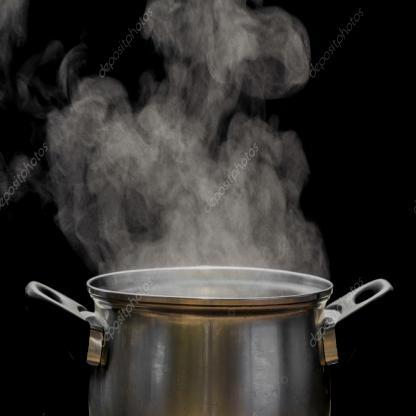smoke: (67, 6, 315, 286)
